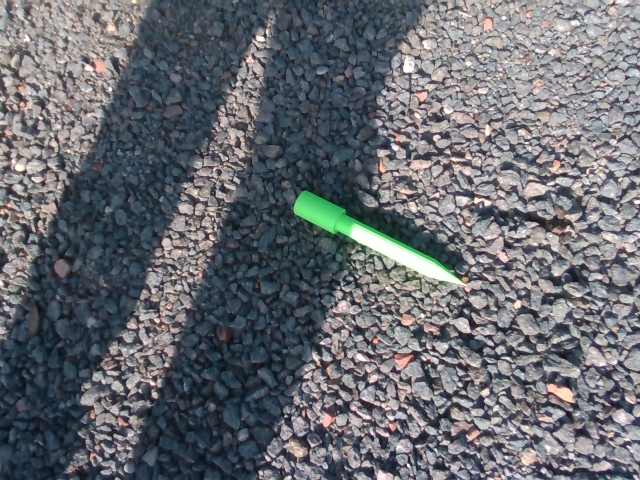Probe: (289, 187, 472, 291)
